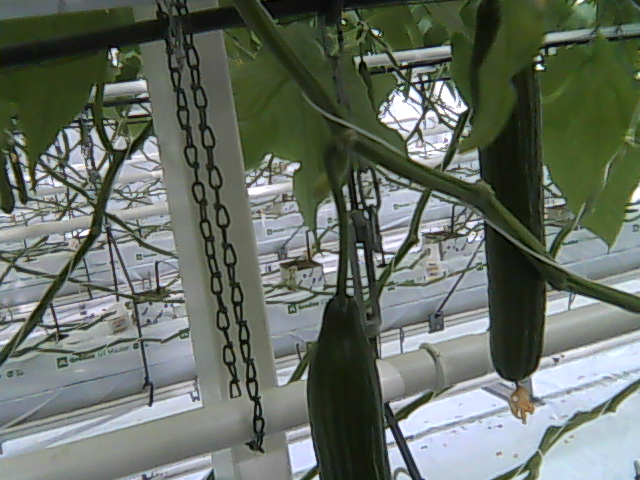concombre: (469, 1, 548, 428), (304, 281, 396, 480)
